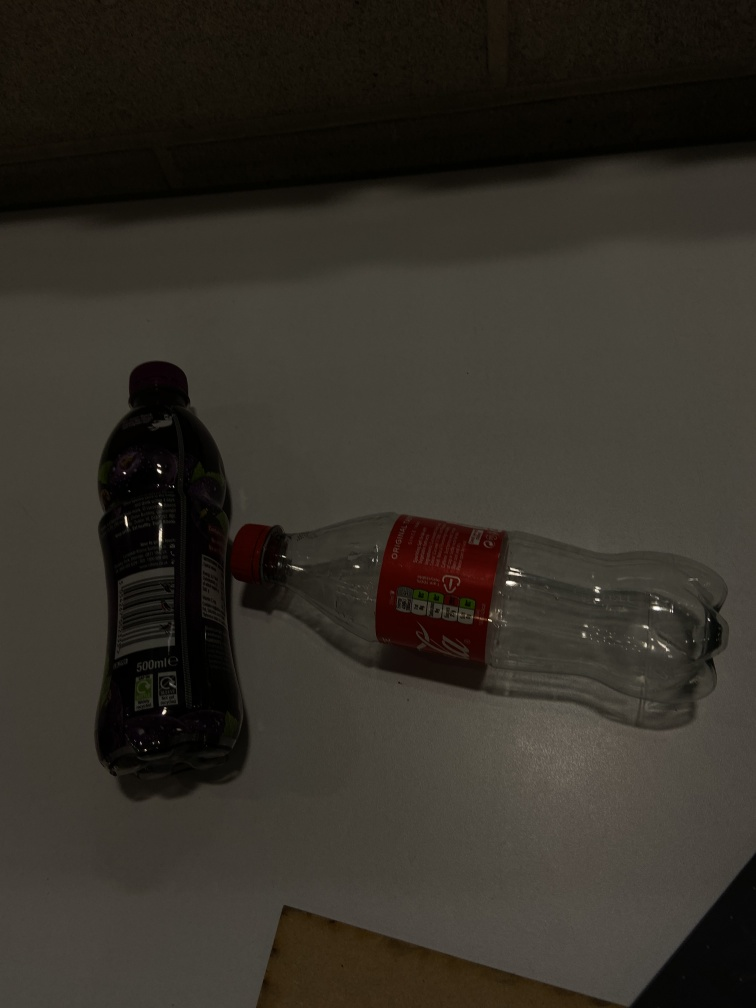bottle_purple: (90, 358, 262, 789)
bottle_red: (227, 514, 737, 729)
